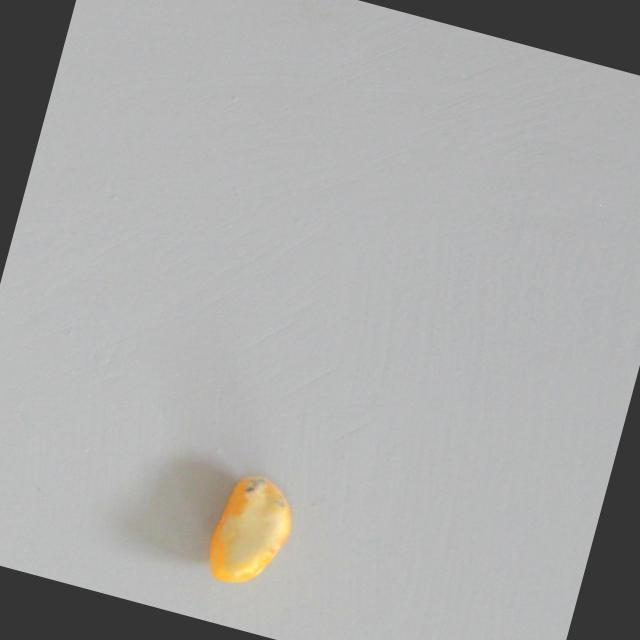punto_negro: (193, 460, 304, 597)
